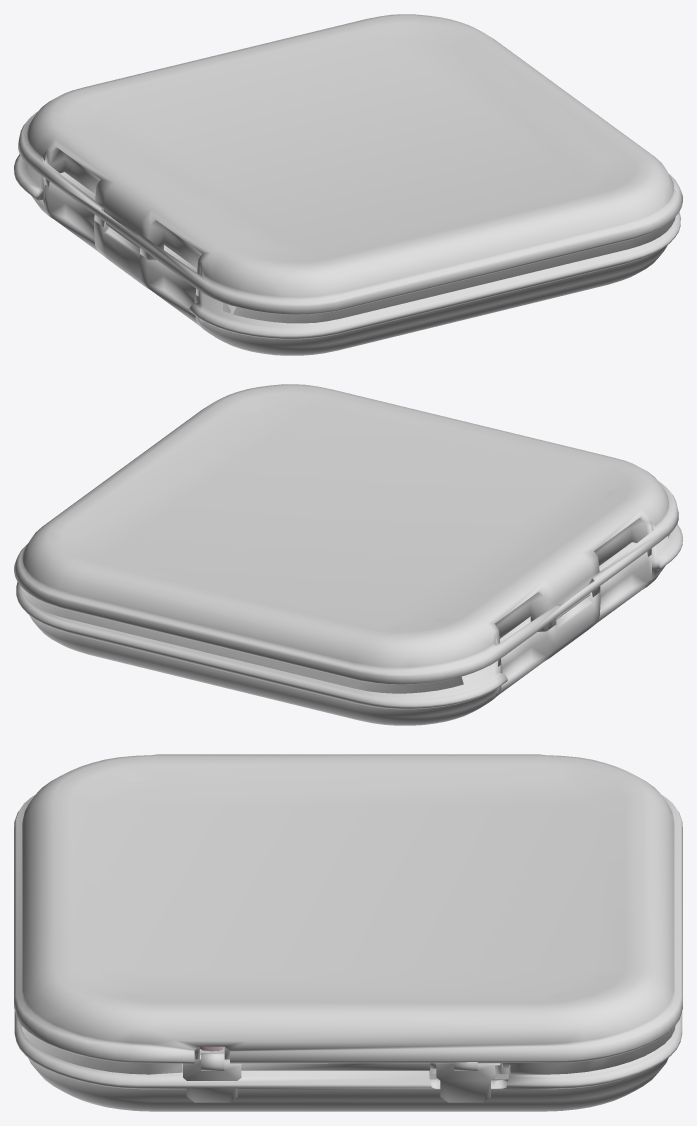
The model's file is squid-set-nails.glb.
3 views of the same model, one above another, from view 1: azimuth 30°, elevation 25°; view 2: azimuth 150°, elevation 25°; view 3: azimuth 270°, elevation 25° (orthographic). The views are drawn at different scales.
Visible parts, largest first — view 1: case; view 2: case; view 3: case.
Part boxes in pixels (box(x1,y1,x2,y2)): case: box(14, 14, 682, 355); case: box(14, 384, 682, 725); case: box(14, 754, 682, 1111).
Bounding box in the file's own units: 0.8439 × 0.1513 × 0.8443.
2 materials, 1 textured.
